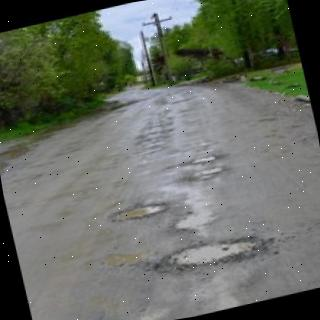pothole: (157, 237, 264, 274), (120, 205, 165, 220)
